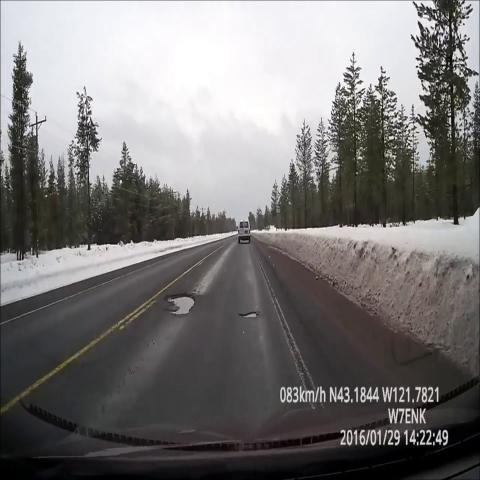pothole: (158, 294, 200, 333), (236, 296, 267, 332)
